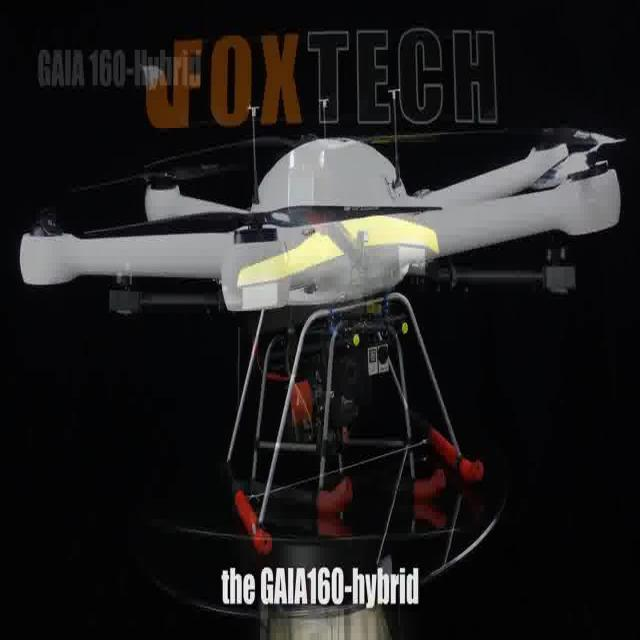drones: (14, 80, 630, 563)
